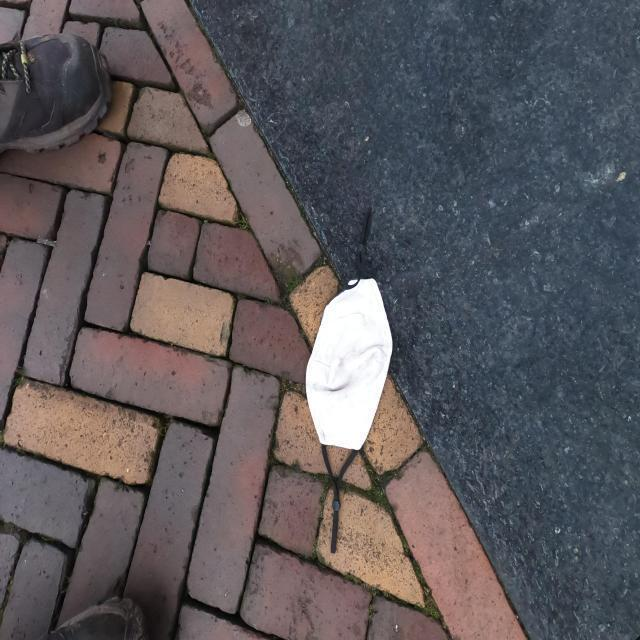Mask: (303, 202, 395, 556)
